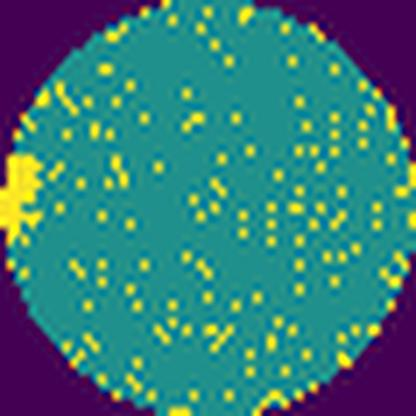Edge-Loc: (0, 150, 49, 247)
